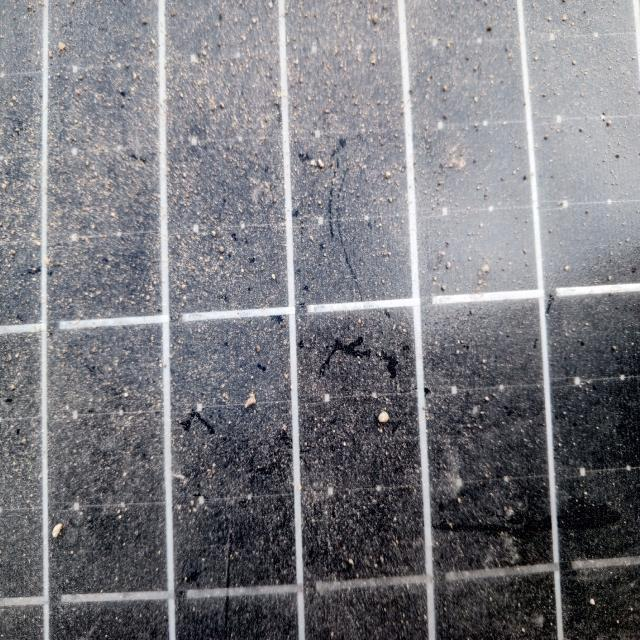Anomaly Solar Panel: (2, 5, 634, 636)
Surface Contaminant: (63, 45, 639, 639)
